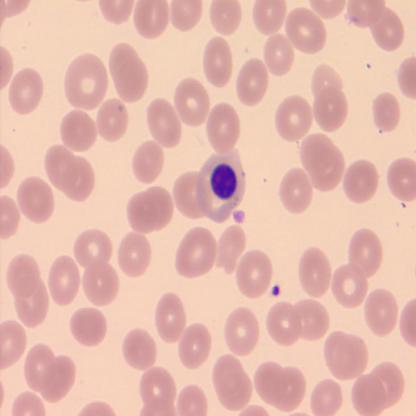NRC: (197, 148, 246, 223)
